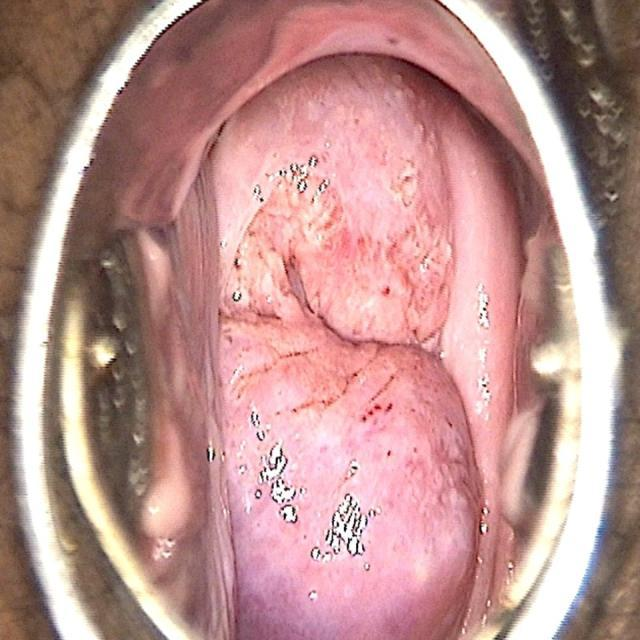cervical_lesion: (184, 50, 521, 636)
